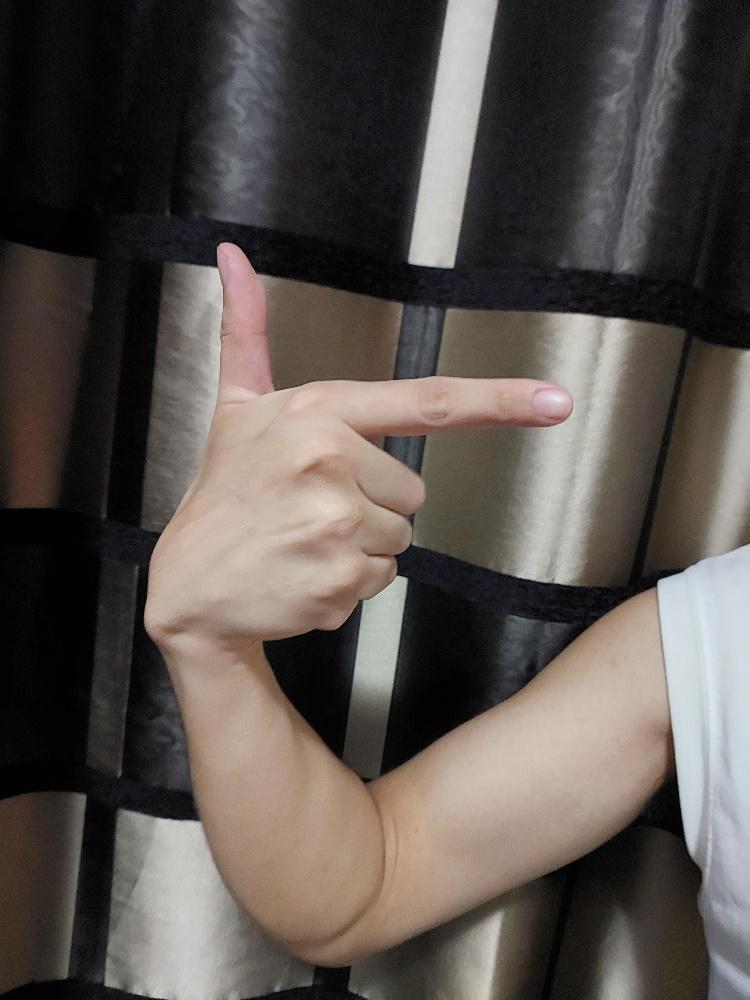g: (141, 239, 576, 651)
